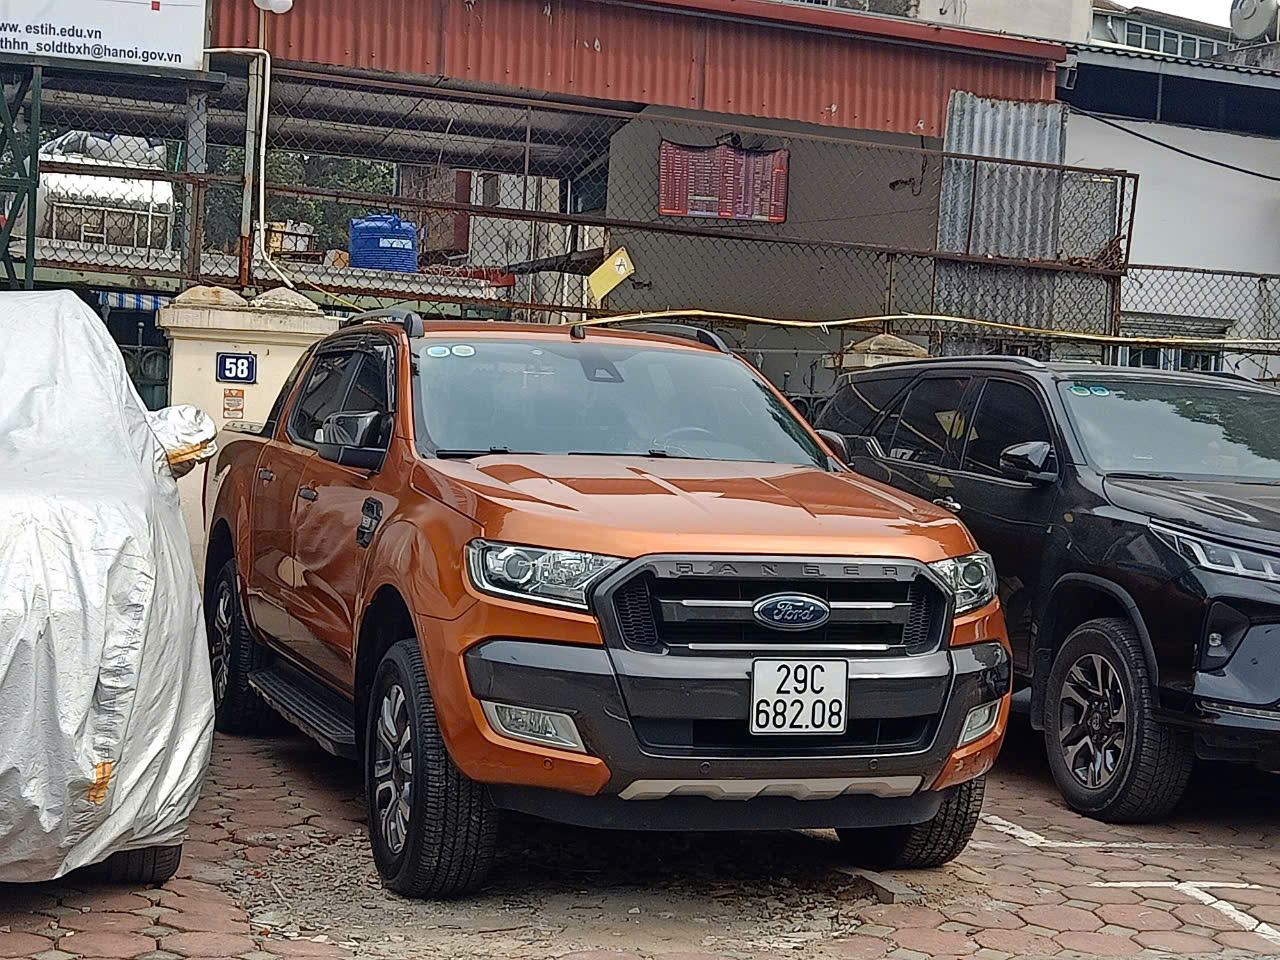bien_so: (748, 658, 848, 736)
